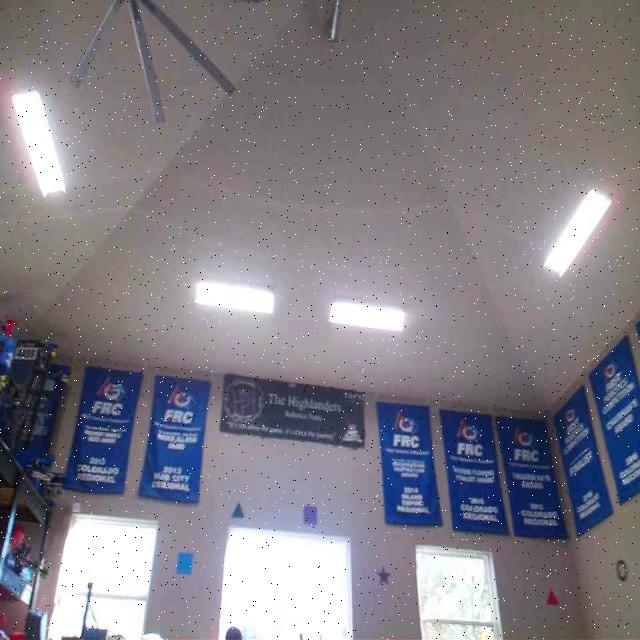ring_black: (615, 558, 627, 580)
square_blue: (175, 551, 193, 574)
square_purple: (303, 505, 317, 523)
star_purple: (376, 566, 391, 584)
triangle_black: (231, 503, 246, 519)
triangle_red: (545, 585, 561, 605)
